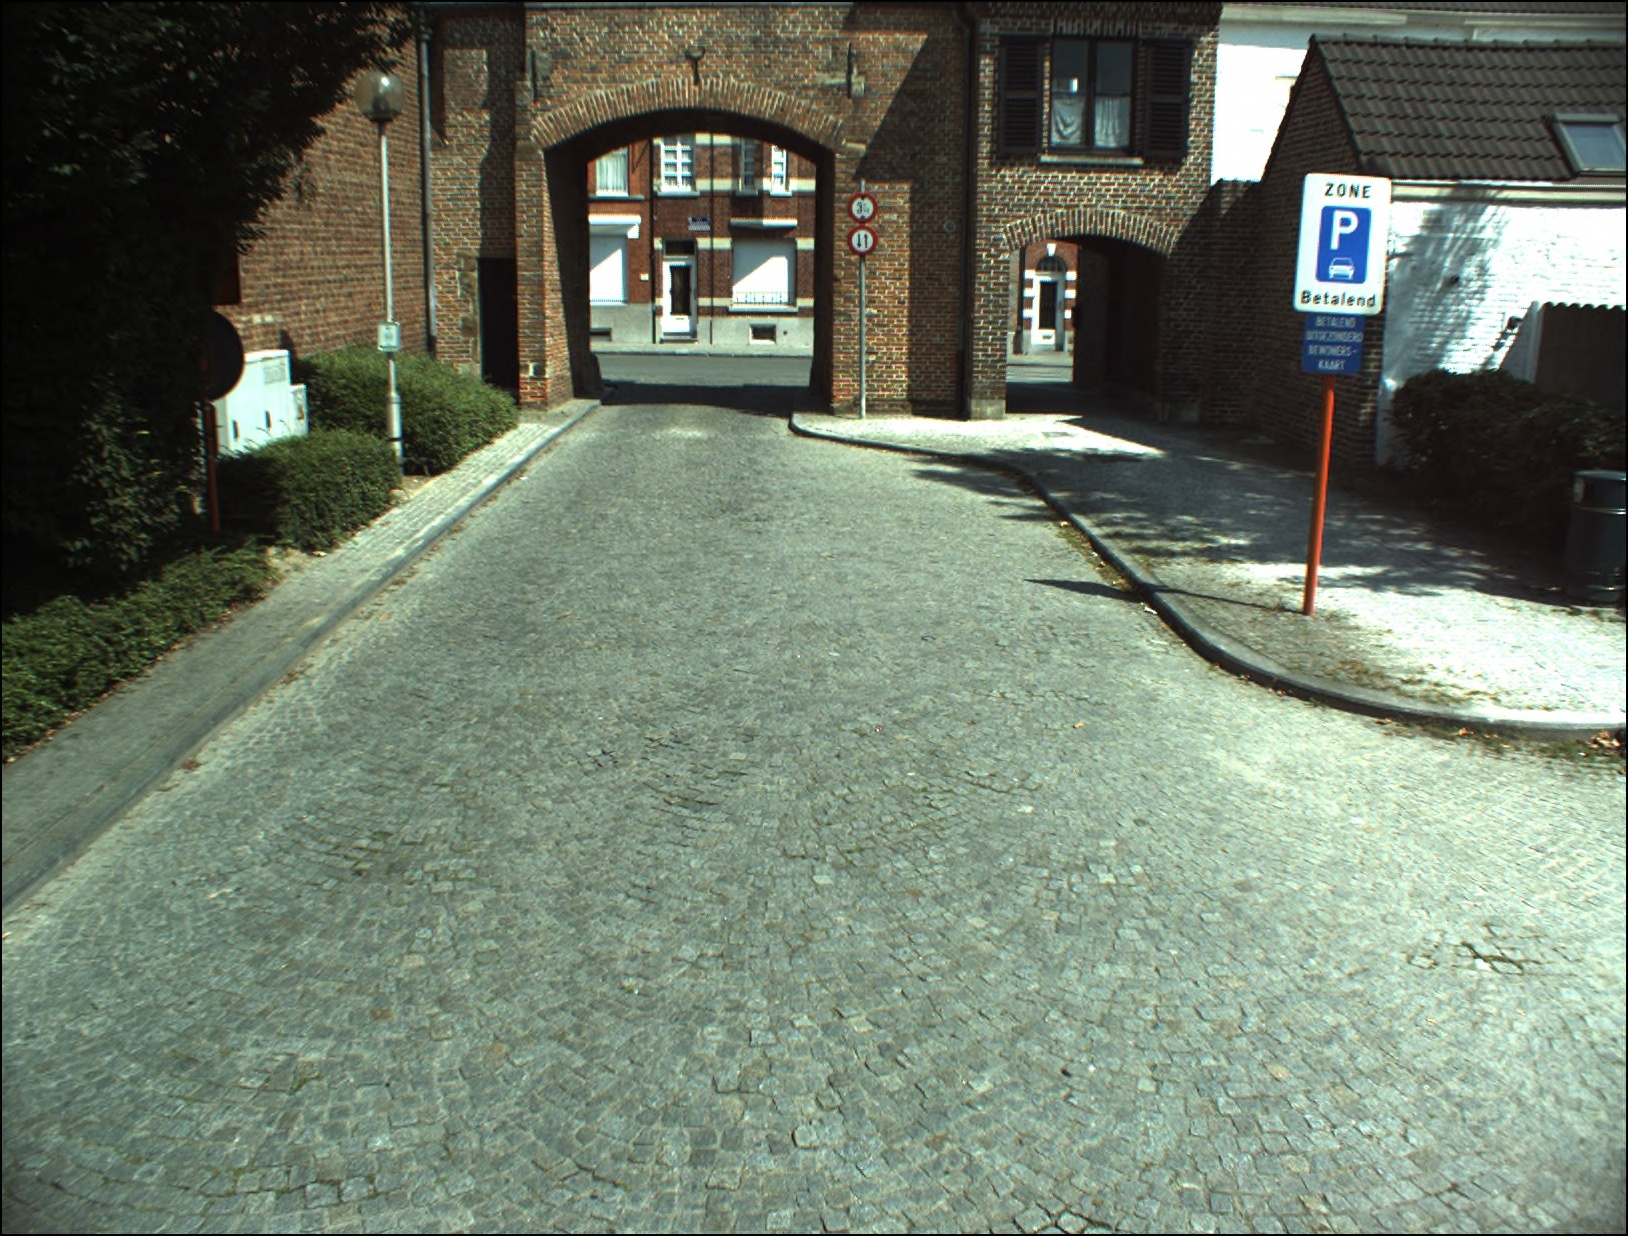parking: (1314, 203, 1372, 286)
roadnarrow2: (849, 226, 878, 251)
